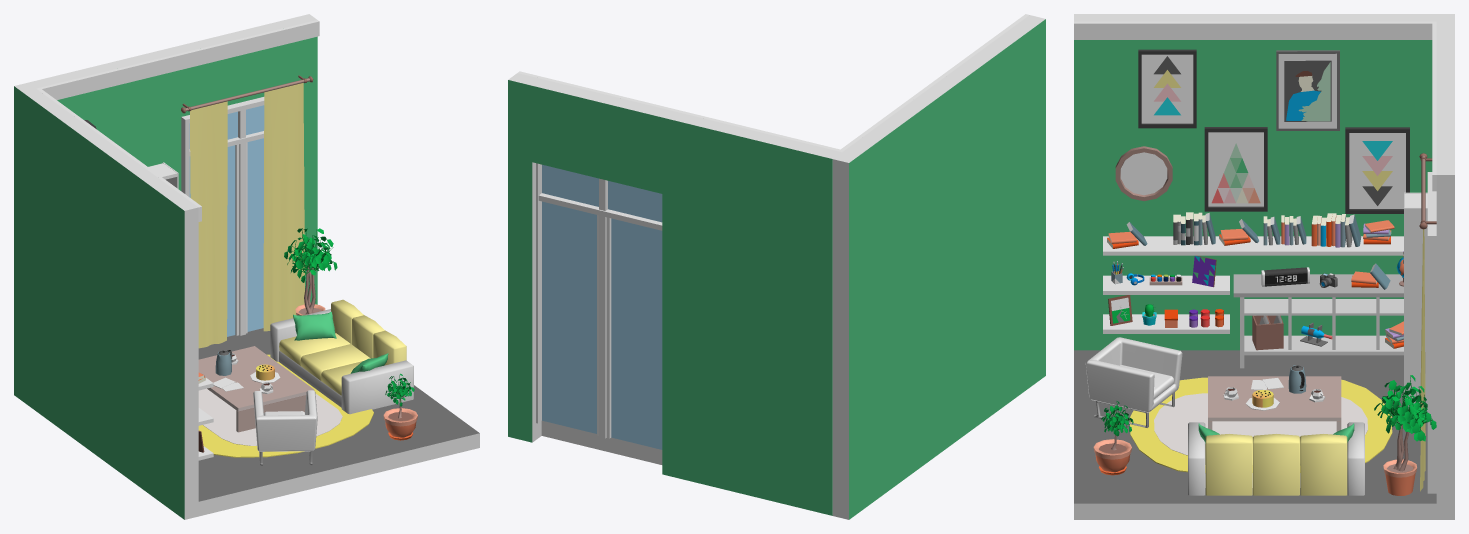
Rendered from room_12.glb.
The picture shows the model from 3 angles, left to right: view 1: azimuth 30°, elevation 25°; view 2: azimuth 150°, elevation 25°; view 3: azimuth 270°, elevation 25°; orthographic projection. The views are drawn at different scales.
Parts seen in each view (by area): view 1: Walls_080.007, Walls_046.001, sofa_030.001, window_009.002, Curtains_027.001, Walls_080.008, Curtains_027.002, Walls_080.009, Walls_003.031, carpet_006.001, coffee_table_011.001, Walls_080.006 (+5 smaller); view 2: Walls_080.007, Walls_080.008, window_009.002, Walls_080.009, Walls_080.006, Walls_046.001, Walls_003.031, Walls_003.032; view 3: Walls_080.007, Walls_046.001, sofa_030.001, shelf_046.001, carpet_006.001, Walls_003.032, Walls_080.006, armchair_003.001, picture_050.003, picture_051.001, picture_045.001, coffee_table_011.001 (+28 smaller).
Part boxes in pixels (x1=…): Walls_080.007: x1=14, y1=82, x2=198, y2=519; Walls_046.001: x1=198, y1=328, x2=479, y2=516; sofa_030.001: x1=270, y1=299, x2=413, y2=414; window_009.002: x1=181, y1=97, x2=264, y2=336; Curtains_027.001: x1=263, y1=83, x2=304, y2=331; Walls_080.008: x1=28, y1=46, x2=183, y2=190; Curtains_027.002: x1=190, y1=101, x2=227, y2=348; Walls_080.009: x1=176, y1=19, x2=296, y2=116; Walls_003.031: x1=36, y1=20, x2=319, y2=99; carpet_006.001: x1=198, y1=354, x2=373, y2=457; coffee_table_011.001: x1=198, y1=346, x2=314, y2=432; Walls_080.006: x1=288, y1=14, x2=317, y2=304; Walls_080.007: x1=833, y1=15, x2=1045, y2=519; Walls_080.008: x1=662, y1=110, x2=841, y2=515; window_009.002: x1=536, y1=163, x2=662, y2=449; Walls_080.009: x1=532, y1=79, x2=670, y2=193; Walls_080.006: x1=508, y1=73, x2=541, y2=442; Walls_046.001: x1=541, y1=420, x2=662, y2=464; Walls_003.031: x1=518, y1=71, x2=843, y2=151; Walls_003.032: x1=841, y1=14, x2=1029, y2=150; Walls_080.007: x1=1074, y1=14, x2=1454, y2=350; Walls_046.001: x1=1074, y1=350, x2=1436, y2=519; sofa_030.001: x1=1188, y1=422, x2=1364, y2=495; shelf_046.001: x1=1233, y1=274, x2=1403, y2=368; carpet_006.001: x1=1129, y1=377, x2=1392, y2=472; Walls_003.032: x1=1074, y1=21, x2=1432, y2=39; Walls_080.006: x1=1436, y1=163, x2=1454, y2=519; armchair_003.001: x1=1085, y1=337, x2=1182, y2=427; picture_050.003: x1=1345, y1=127, x2=1409, y2=213; picture_051.001: x1=1204, y1=127, x2=1267, y2=211; picture_045.001: x1=1276, y1=50, x2=1339, y2=130; coffee_table_011.001: x1=1208, y1=376, x2=1341, y2=431.
Bounding box in the file's own units: 4.2 × 4.2 × 4.2.
1 material, 1 textured.
